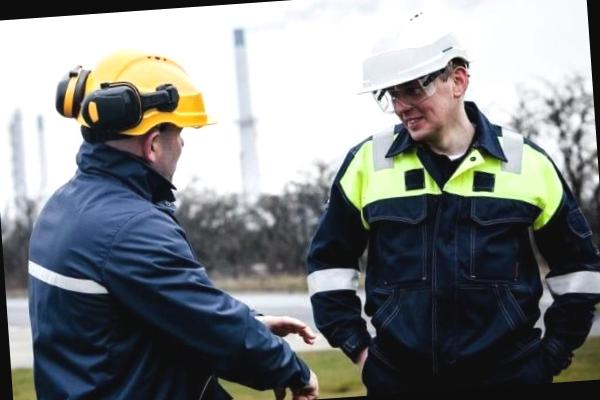helmet: (56, 44, 218, 150), (346, 12, 470, 94)
no_vest: (327, 123, 572, 350), (31, 164, 259, 400)
person: (320, 3, 575, 392), (6, 38, 255, 400)
